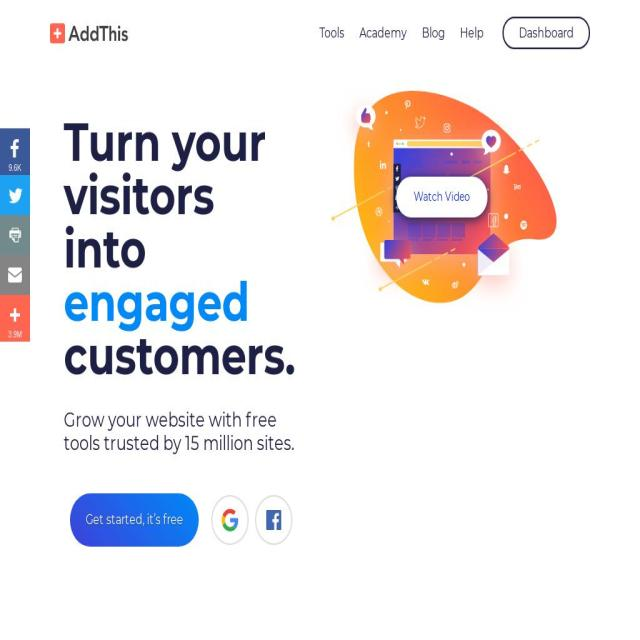button: (70, 493, 199, 547), (396, 176, 488, 217), (502, 17, 590, 50), (212, 495, 250, 545), (255, 495, 293, 545), (50, 22, 128, 44), (0, 127, 30, 175), (0, 294, 30, 342), (0, 174, 30, 215), (0, 214, 30, 255), (0, 254, 30, 295), (359, 22, 407, 44), (320, 22, 344, 44), (460, 22, 484, 44), (422, 22, 445, 44)
heading: (64, 115, 267, 382), (64, 322, 296, 388), (64, 269, 250, 334), (59, 638, 580, 640)
image: (320, 75, 564, 319), (5, 134, 25, 162), (5, 181, 25, 208), (5, 221, 25, 248), (5, 261, 25, 288), (5, 301, 25, 328), (222, 508, 240, 532), (266, 510, 282, 530)
text: (64, 408, 308, 455), (15, 294, 50, 365), (15, 174, 46, 228), (15, 128, 57, 164), (15, 214, 40, 268), (15, 254, 40, 308), (8, 161, 31, 215), (8, 328, 30, 382), (7, 329, 22, 339), (8, 162, 21, 172)
